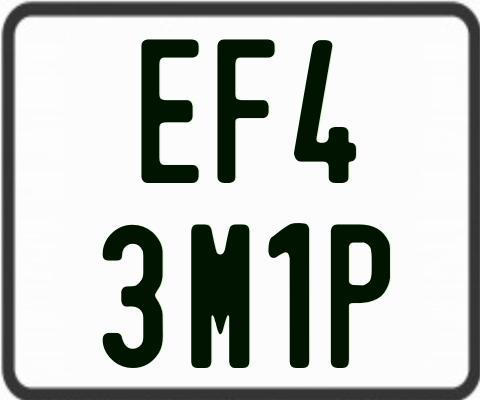1: (265, 222, 307, 370)
3: (102, 225, 164, 373)
4: (293, 37, 355, 185)
E: (138, 37, 200, 182)
F: (215, 37, 277, 187)
M: (190, 221, 248, 369)
P: (328, 222, 391, 369)
